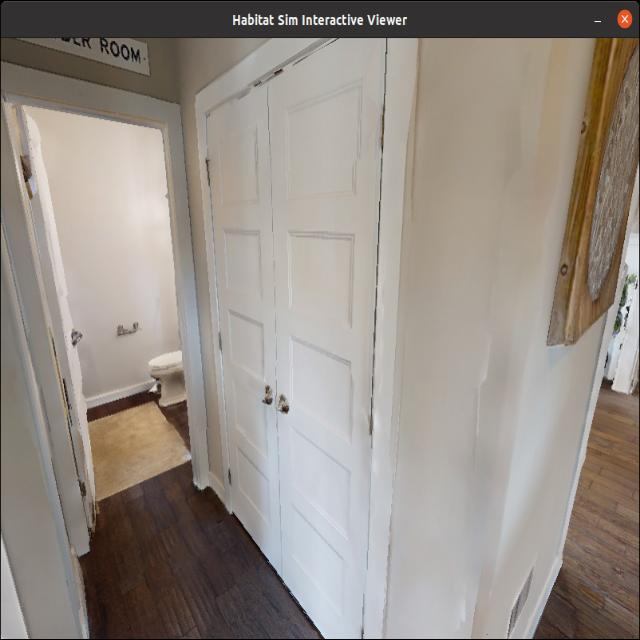door: (192, 40, 414, 640)
door-frame: (0, 60, 219, 508)
